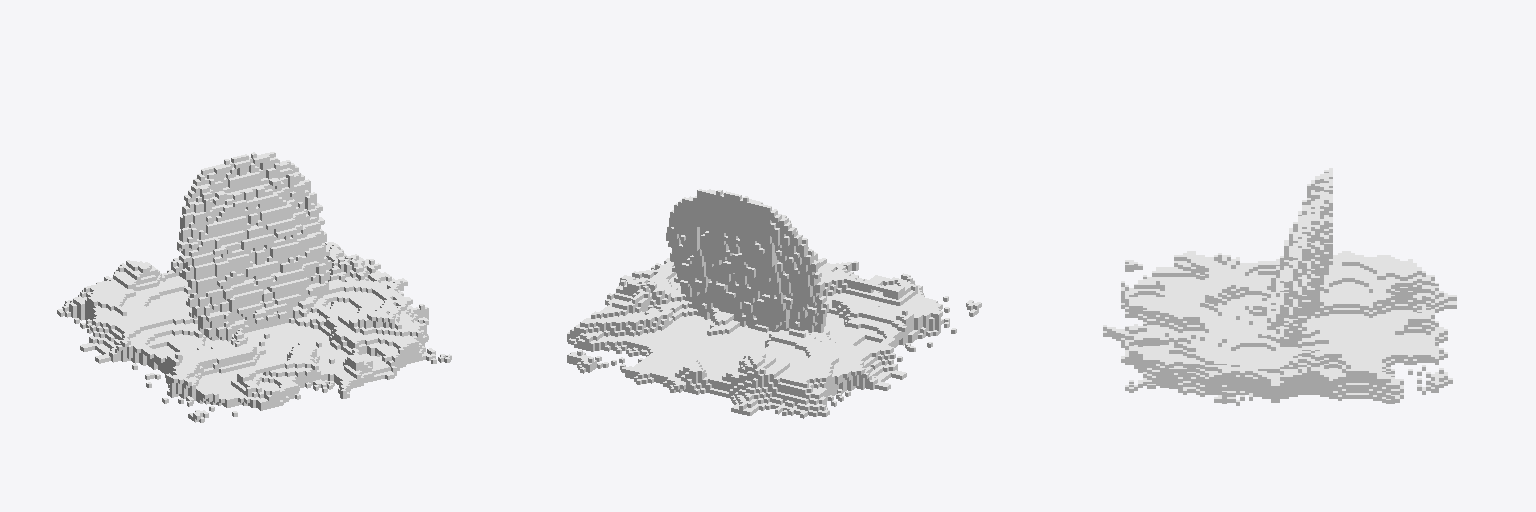
Rendered from AncientCrashSite.obj.
3 views of the same model, side by side, from view 1: azimuth 30°, elevation 25°; view 2: azimuth 150°, elevation 25°; view 3: azimuth 270°, elevation 25° (orthographic).
Visible parts, largest first — view 1: object 1; view 2: object 1; view 3: object 1.
Part boxes in pixels (bbox=[...]): object 1: bbox=[57, 152, 451, 422]; object 1: bbox=[567, 189, 981, 418]; object 1: bbox=[1103, 168, 1456, 405].
Size of the model in its own units: 7.7 by 3.9 by 8.